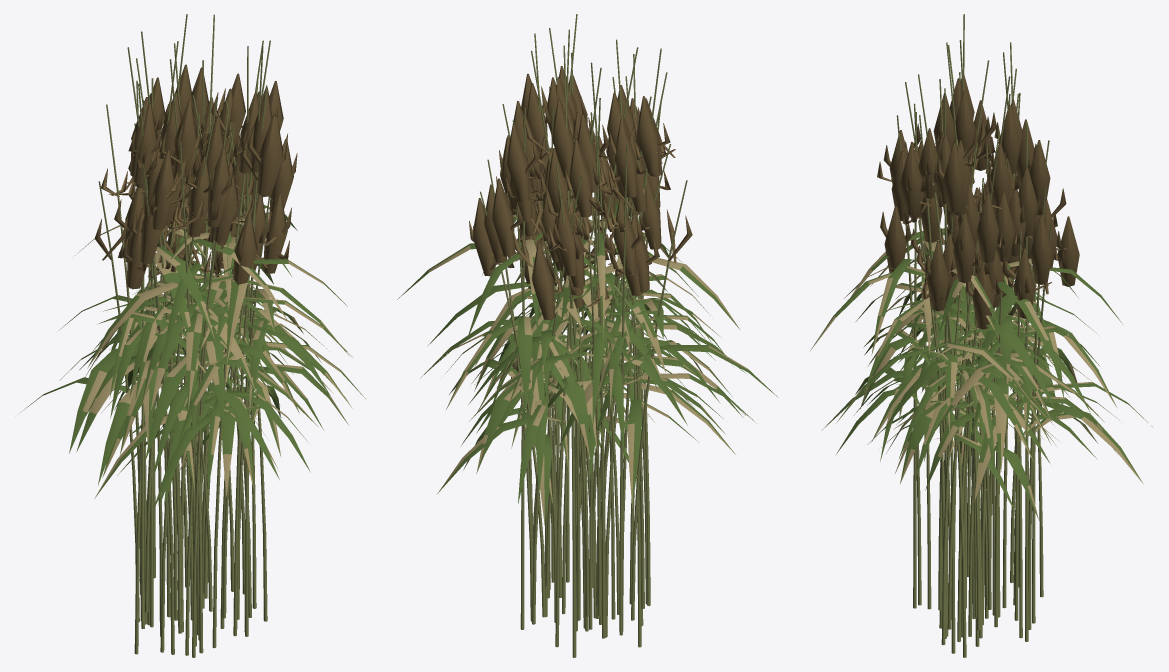
The model's file is vegetation_07.glb.
The picture shows the model from 3 angles, left to right: view 1: azimuth 30°, elevation 25°; view 2: azimuth 150°, elevation 25°; view 3: azimuth 270°, elevation 25°; orthographic projection. The views are drawn at different scales.
Visible parts, largest first — view 1: prototype_063, prototype_057, prototype_059, prototype_058, prototype_062, prototype_061, prototype_056, prototype_060; view 2: prototype_057, prototype_061, prototype_062, prototype_058, prototype_056, prototype_063, prototype_059, prototype_060; view 3: prototype_063, prototype_059, prototype_061, prototype_062, prototype_058, prototype_057, prototype_056, prototype_060.
Boxes of the visible parts, <box> form: prototype_063: <box>87,46,329,657</box>; prototype_057: <box>69,41,307,654</box>; prototype_059: <box>125,58,347,633</box>; prototype_058: <box>59,14,365,653</box>; prototype_062: <box>20,14,352,636</box>; prototype_061: <box>85,31,352,646</box>; prototype_056: <box>76,40,288,647</box>; prototype_060: <box>79,91,297,647</box>; prototype_057: <box>437,39,778,647</box>; prototype_061: <box>446,52,732,647</box>; prototype_062: <box>468,33,745,657</box>; prototype_058: <box>476,29,699,628</box>; prototype_056: <box>397,28,741,631</box>; prototype_063: <box>420,14,739,635</box>; prototype_059: <box>445,76,745,629</box>; prototype_060: <box>423,28,743,631</box>; prototype_063: <box>864,74,1119,657</box>; prototype_059: <box>855,68,1070,641</box>; prototype_061: <box>837,42,1122,641</box>; prototype_062: <box>836,42,1097,646</box>; prototype_058: <box>810,60,1152,653</box>; prototype_057: <box>867,14,1143,617</box>; prototype_056: <box>821,88,1116,636</box>; prototype_060: <box>863,93,1087,624</box>.
Bounding box in the file's own units: 1.73 × 3.26 × 1.74.
